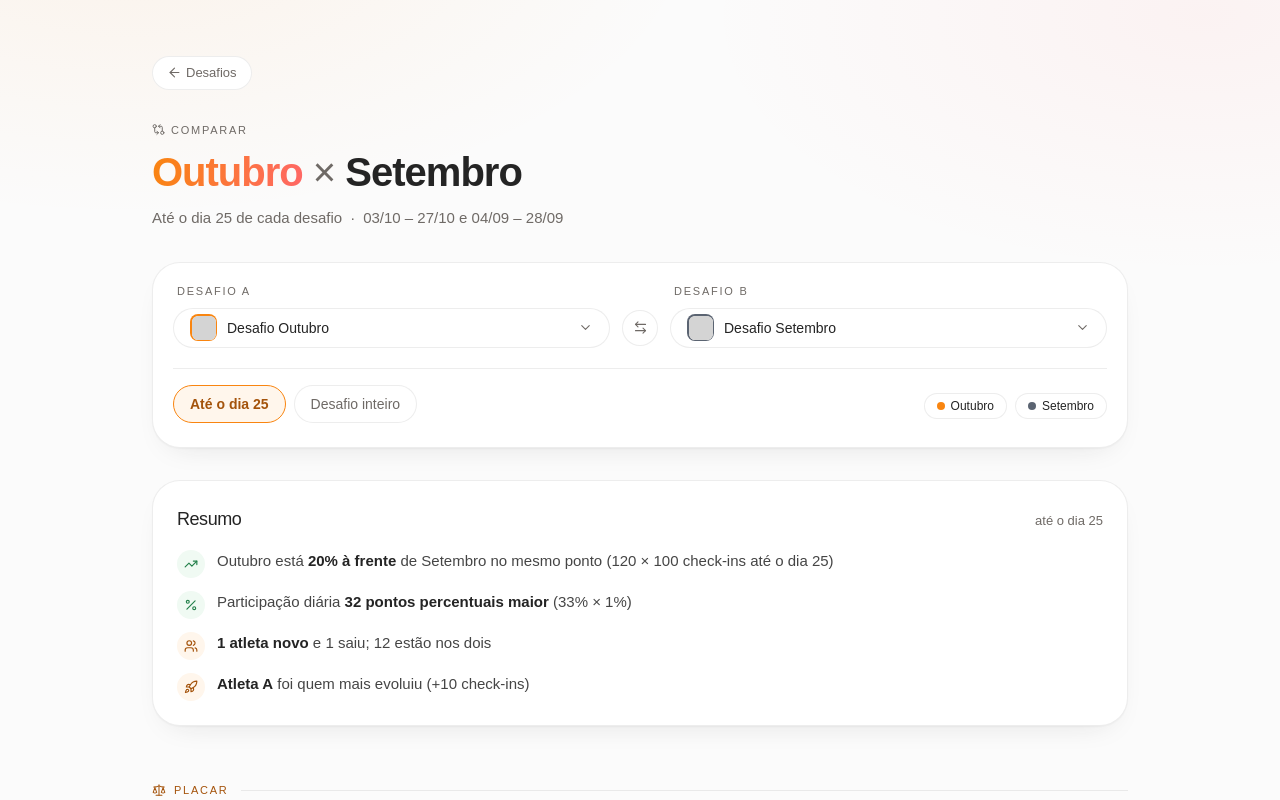
Test: ComparePage › swaps the challenges in the URL
Click the button named "Inverter desafios".
click(640, 328)  # box [622,310,658,346]
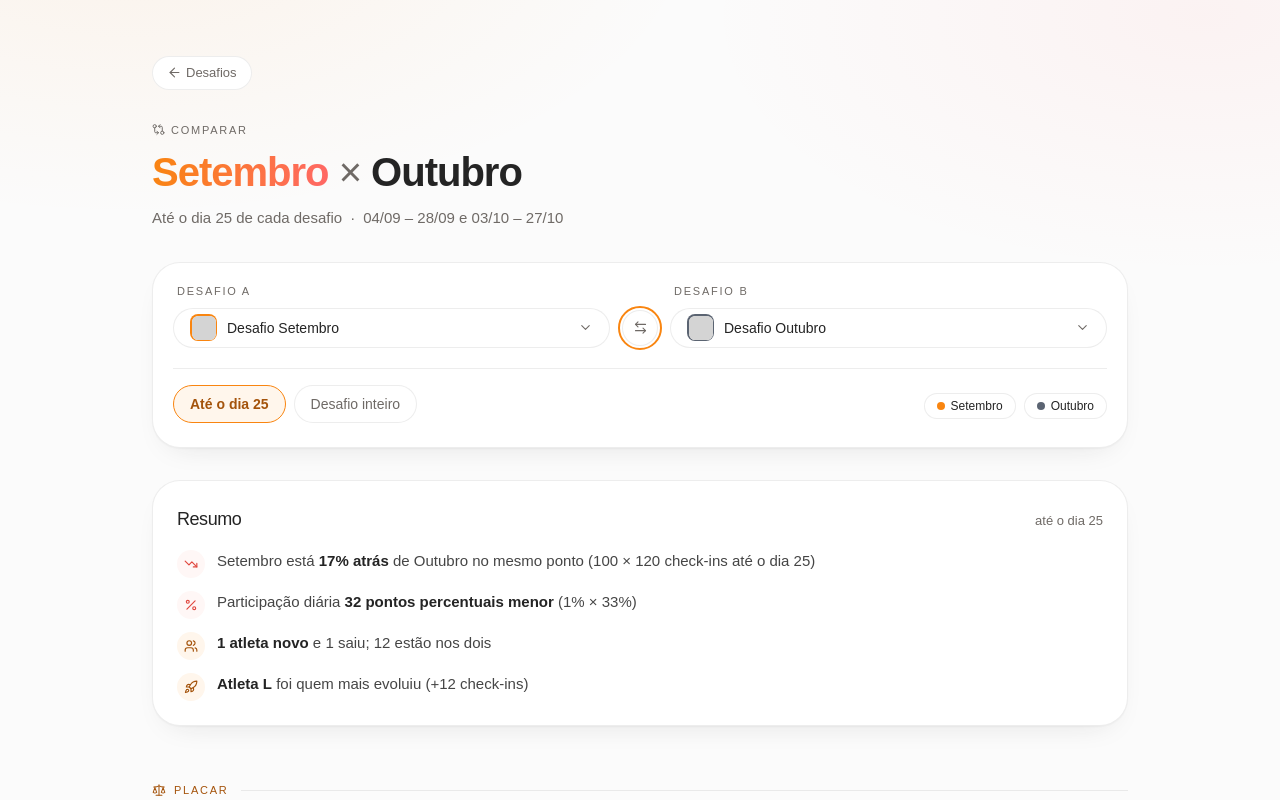
Expected: the heading "Setembro × Outubro" is shown, [152,150,522,194]
